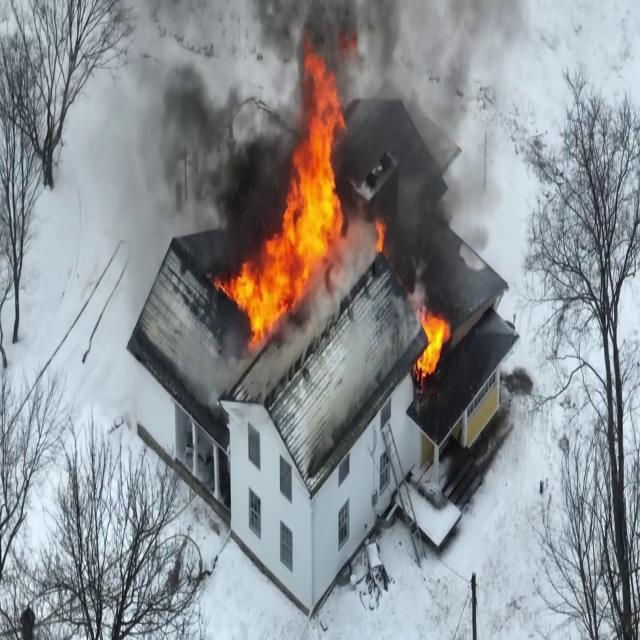Fire: (228, 48, 356, 352), (411, 299, 455, 385)
Smoke: (130, 0, 270, 241), (354, 0, 471, 285)
